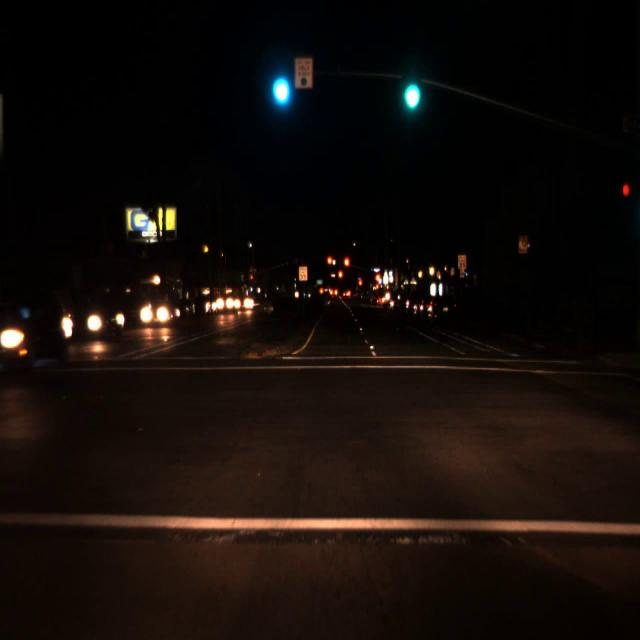go: (399, 58, 421, 116), (270, 60, 290, 108)
go traffic light: (399, 58, 421, 116), (270, 60, 290, 108)
stop: (343, 255, 351, 278), (326, 256, 334, 274), (338, 268, 343, 286), (376, 274, 380, 290), (358, 278, 362, 292), (250, 275, 253, 282)
stop traffic light: (343, 255, 351, 278), (326, 256, 334, 274), (338, 268, 343, 286), (376, 274, 380, 290), (358, 278, 362, 292), (250, 275, 253, 282)
